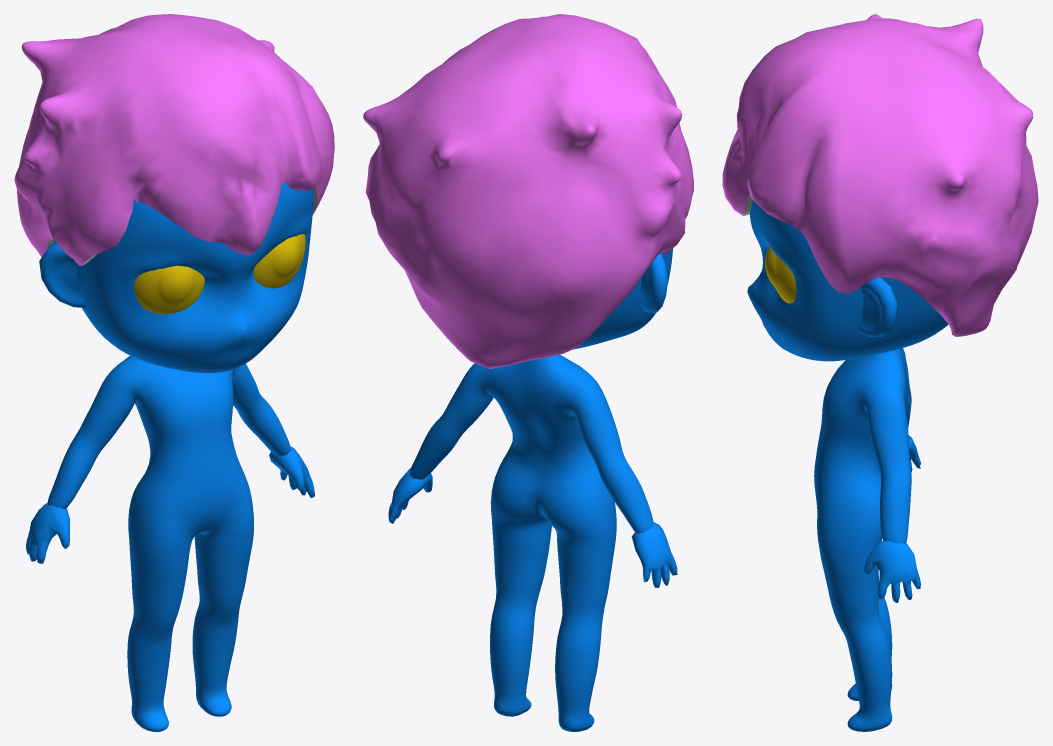
File: MCTEST.fbx
The picture shows the model from 3 angles, left to right: view 1: azimuth 30°, elevation 25°; view 2: azimuth 150°, elevation 25°; view 3: azimuth 270°, elevation 25°; orthographic projection. The views are drawn at different scales.
Parts seen in each view (by area): view 1: Group39514, Group10213, Group17811; view 2: Group10213, Group39514; view 3: Group10213, Group39514, Group17811.
Boxes of the visible parts, x1,y1,x2,y2 form: Group39514: (26,182,314,731); Group10213: (14,14,334,265); Group17811: (134,234,305,314); Group10213: (363,14,693,368); Group39514: (388,248,677,731); Group10213: (722,14,1038,336); Group39514: (747,200,948,731); Group17811: (765,246,796,303).
Size of the model in its own units: 2.89 by 6.53 by 2.77.
